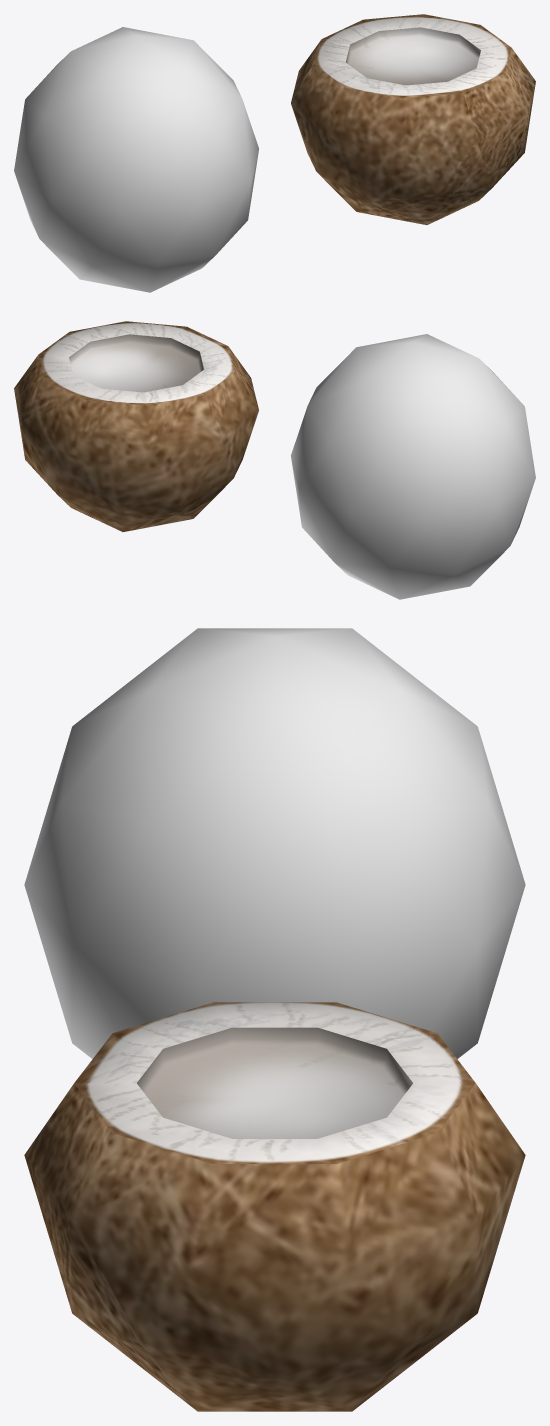
Rendered from Coconuts.fbx.
The picture shows the model from 3 angles, top to bottom: view 1: azimuth 30°, elevation 25°; view 2: azimuth 150°, elevation 25°; view 3: azimuth 270°, elevation 25°; orthographic projection. The views are drawn at different scales.
Parts seen in each view (by area): view 1: Coconut, CrackedCoconut; view 2: Coconut, CrackedCoconut; view 3: Coconut, CrackedCoconut.
Part boxes in pixels (<box>): Coconut: <box>14,27,258,292</box>; CrackedCoconut: <box>291,14,535,224</box>; Coconut: <box>291,334,535,599</box>; CrackedCoconut: <box>14,321,258,531</box>; Coconut: <box>24,628,525,1058</box>; CrackedCoconut: <box>24,1002,525,1411</box>.
Size of the model in its own units: 445 by 219 by 200.
